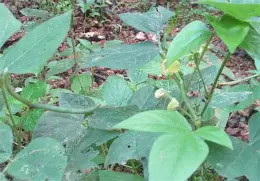crops: (0, 1, 256, 179), (0, 79, 44, 151), (75, 0, 112, 21)
